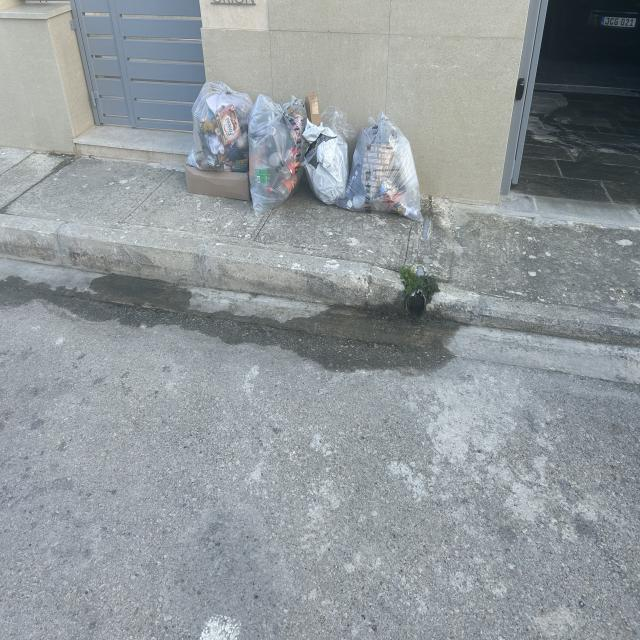grey_bag: (341, 110, 425, 224), (248, 92, 306, 218), (184, 78, 256, 172), (302, 90, 356, 206)
